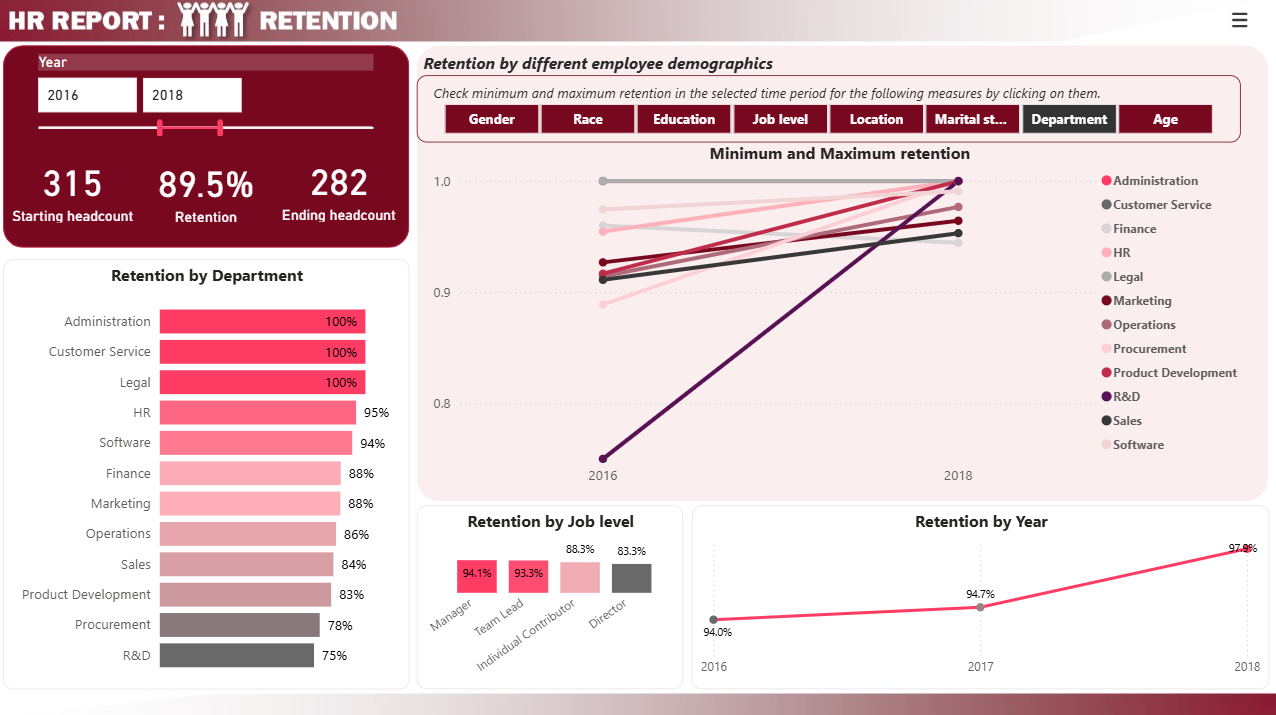

This screenshot's page, from the dashboard's own definition file:
{"tool":"powerbi","page":{"name":"Retention","canvas":[1280,720],"ordinal":2},"visuals":[{"type":"shape","box":[998.3,55,281.7,608.3],"z":0,"group":"g1"},{"type":"shape","box":[5,46.2,406.2,202.5],"z":0},{"type":"slicer","fields":{"Values":["Demographic_table.Age (groups)"]},"box":[1018.3,98.3,243.8,65.8],"z":1000,"group":"g1"},{"type":"shape","box":[418.8,46.2,851.2,456.2],"z":1000},{"type":"slicer","fields":{"Values":["Department_table.Department"]},"box":[1018.3,178.3,243.8,65.8],"z":2000,"group":"g1"},{"type":"card","fields":{"Values":["_measure.Retention"]},"box":[143.8,143.8,128.8,93.8],"z":2000},{"type":"slicer","fields":{"Values":["_Dates (Big).Year"]},"box":[27.5,50,361.2,100],"z":3000},{"type":"slicer","fields":{"Values":["Department_table.Sub-department"]},"box":[1018.3,258.2,243.8,65.8],"z":3000,"group":"g1"},{"type":"slicer","fields":{"Values":["Education_table.Education"]},"box":[1018.3,338.1,243.8,65.8],"z":4000,"group":"g1"},{"type":"lineChart","fields":{"Category":["_Dates (Big).Year"],"Y":["_measure.Retention"]},"box":[694.4,506.7,585.6,183.3],"z":4000},{"type":"slicer","fields":{"Values":["Job level_table.Job level"]},"box":[1018.3,418,243.8,65.8],"z":5000,"group":"g1"},{"type":"columnChart","fields":{"Category":["Job level_table.Job level"],"Y":["_measure.Retention"]},"box":[418.8,506.2,266.2,183.8],"z":5000},{"type":"clusteredBarChart","fields":{"Category":["Department_table.Department"],"Y":["_measure.Retention"]},"box":[5,260,406.2,430],"z":6000},{"type":"slicer","fields":{"Values":["Location_table.Location"]},"box":[1018.3,498,243.8,65.8],"z":6000,"group":"g1"},{"type":"slicer","fields":{"Values":["Parameter.Parameter"]},"box":[436.2,77.5,822.5,72.5],"z":7000},{"type":"slicer","fields":{"Values":["Marital status_table.Marital status"]},"box":[1018.3,577.9,243.8,65.8],"z":7000,"group":"g1"},{"type":"lineChart","title":"Minimum and Maximum retention","fields":{"Series":["Demographic_table.Gender"],"Y":["_measure.Min Max retention"],"Category":["_Dates (Big).Year"]},"box":[411.7,130,823.3,353.3],"z":8000},{"type":"card","fields":{"Values":["_measure.Starting headcount"]},"box":[5,150,140,78.8],"z":9000},{"type":"card","fields":{"Values":["_measure.Ending headcount"]},"box":[271.2,150,140,77.5],"z":10000},{"type":"actionButton","box":[1204,0,76,39.8],"z":11000},{"type":"group","id":"g1","title":"Slicer Panel","box":[998.3,55,281.7,608.3],"z":12000}]}

Visuals, with their boxes in screenshot pixels (x1, y1, x2, y2), scaled from the page's 1280x720 canvas onto the 1276x715 screenshot:
shape: <region>995, 55, 1275, 659</region>
shape: <region>5, 46, 410, 247</region>
slicer - Demographic_table.Age (groups): <region>1015, 98, 1258, 163</region>
shape: <region>417, 46, 1266, 499</region>
slicer - Department_table.Department: <region>1015, 177, 1258, 242</region>
card - _measure.Retention: <region>143, 143, 272, 236</region>
slicer - _Dates (Big).Year: <region>27, 50, 387, 149</region>
slicer - Department_table.Sub-department: <region>1015, 256, 1258, 322</region>
slicer - Education_table.Education: <region>1015, 336, 1258, 401</region>
lineChart - _Dates (Big).Year x _measure.Retention: <region>692, 503, 1275, 685</region>
slicer - Job level_table.Job level: <region>1015, 415, 1258, 480</region>
columnChart - Job level_table.Job level x _measure.Retention: <region>417, 503, 683, 685</region>
clusteredBarChart - Department_table.Department x _measure.Retention: <region>5, 258, 410, 685</region>
slicer - Location_table.Location: <region>1015, 495, 1258, 560</region>
slicer - Parameter.Parameter: <region>435, 77, 1255, 149</region>
slicer - Marital status_table.Marital status: <region>1015, 574, 1258, 639</region>
"Minimum and Maximum retention" lineChart: <region>410, 129, 1231, 480</region>
card - _measure.Starting headcount: <region>5, 149, 145, 227</region>
card - _measure.Ending headcount: <region>270, 149, 410, 226</region>
actionButton: <region>1200, 0, 1275, 40</region>
"Slicer Panel" group: <region>995, 55, 1275, 659</region>
